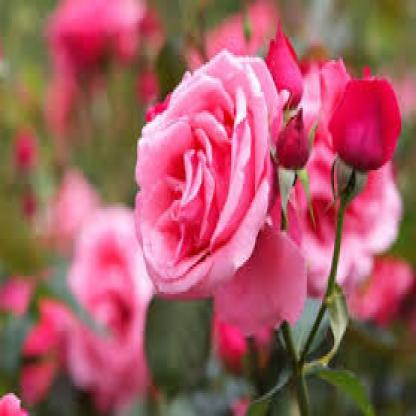Rose-Mawar: (126, 22, 405, 334)
